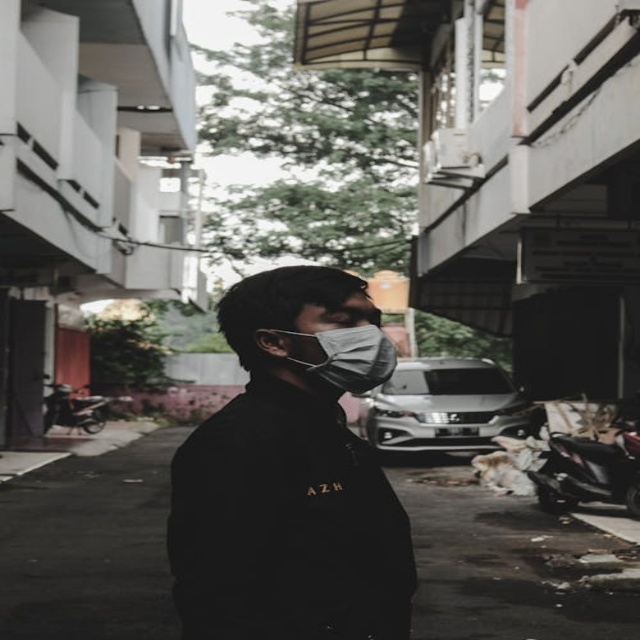Mascara: (281, 324, 398, 394)
Sin_gafas: (300, 305, 387, 328)
